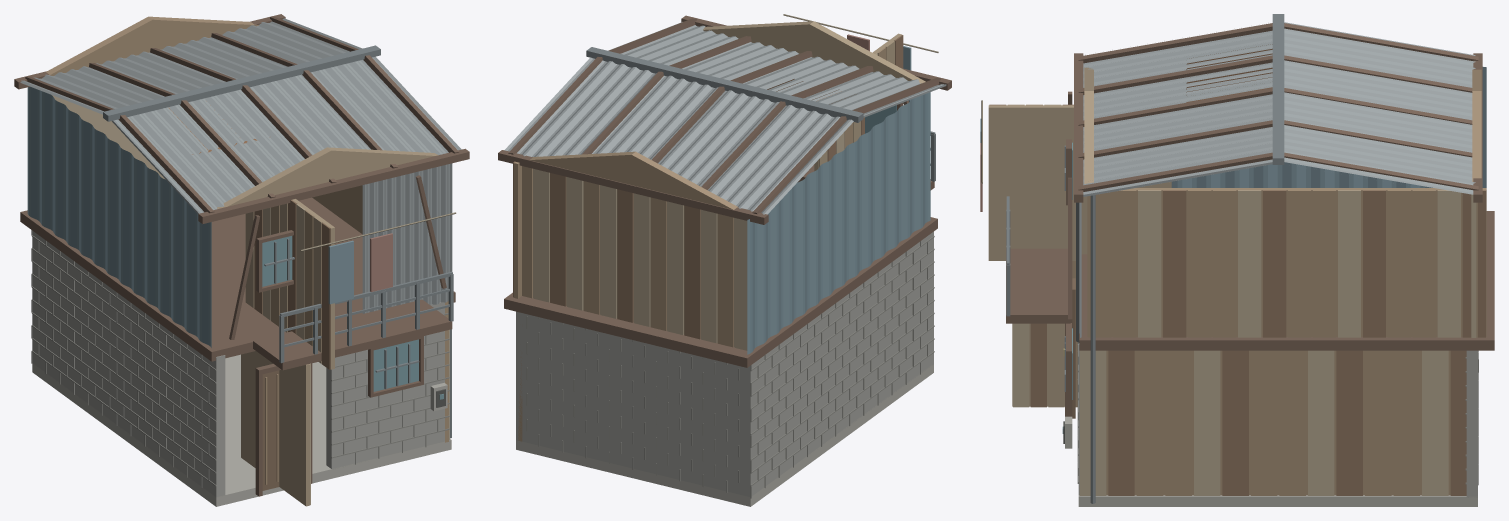
Rendered from SH09_Patchwork_Timber_Upper_Floor.glb.
3 renders of one model, left to right at view 1: azimuth 30°, elevation 25°; view 2: azimuth 150°, elevation 25°; view 3: azimuth 270°, elevation 25°, orthographic. The views are drawn at different scales.
Parts seen in each view (by area): view 1: 368_Upper_left_metal, 186_Left_lower_concrete, 444_Patchwork_roof_right_sheet, 443_Patchwork_roof_left_sheet, 355_Upper_floor, 002_Front_lower_left_concrete, 367_Upper_front_right, 001_Ground_floor, 062_Front_lower_right_backing, 428_Laundry_balcony_floor, 441_Front_gable, 442_Rear_gable (+34 smaller); view 2: 071_Rear_lower_concrete, 368_Upper_left_metal, 443_Patchwork_roof_left_sheet, 186_Left_lower_concrete, 444_Patchwork_roof_right_sheet, 355_Upper_floor, 441_Front_gable, 001_Ground_floor, 442_Rear_gable, 445_Patchwork_roof_ridge_cap, 446_Patchwork_roof_fascia_-1, 394_Upper_rear_plank_08 (+26 smaller); view 3: 443_Patchwork_roof_left_sheet, 444_Patchwork_roof_right_sheet, 356_Upper_front_left_backing, 355_Upper_floor, 369_Upper_right_backing, 340_Right_lower_backing, 428_Laundry_balcony_floor, 368_Upper_left_metal, 001_Ground_floor, 352_Right_lower_plank_12, 342_Right_lower_plank_02, 344_Right_lower_plank_04 (+51 smaller).
Part boxes in pixels (left/top/right/bottom): 368_Upper_left_metal: left=27, top=86, right=211, bottom=347; 186_Left_lower_concrete: left=32, top=231, right=225, bottom=497; 444_Patchwork_roof_right_sheet: left=112, top=56, right=461, bottom=214; 443_Patchwork_roof_left_sheet: left=20, top=18, right=362, bottom=114; 355_Upper_floor: left=20, top=197, right=455, bottom=361; 002_Front_lower_left_concrete: left=326, top=302, right=449, bottom=469; 367_Upper_front_right: left=362, top=163, right=452, bottom=313; 001_Ground_floor: left=32, top=354, right=451, bottom=506; 062_Front_lower_right_backing: left=241, top=351, right=309, bottom=506; 428_Laundry_balcony_floor: left=253, top=299, right=452, bottom=370; 441_Front_gable: left=217, top=147, right=438, bottom=208; 442_Rear_gable: left=46, top=16, right=258, bottom=75; 071_Rear_lower_concrete: left=516, top=311, right=755, bottom=497; 368_Upper_left_metal: left=747, top=92, right=930, bottom=354; 443_Patchwork_roof_left_sheet: left=504, top=57, right=853, bottom=214; 186_Left_lower_concrete: left=741, top=231, right=933, bottom=496; 444_Patchwork_roof_right_sheet: left=608, top=22, right=946, bottom=117; 355_Upper_floor: left=504, top=217, right=937, bottom=367; 441_Front_gable: left=703, top=21, right=925, bottom=83; 001_Ground_floor: left=516, top=364, right=933, bottom=506; 442_Rear_gable: left=530, top=151, right=737, bottom=209; 445_Patchwork_roof_ridge_cap: left=586, top=47, right=863, bottom=122; 446_Patchwork_roof_fascia_-1: left=498, top=150, right=768, bottom=224; 394_Upper_rear_plank_08: left=617, top=189, right=633, bottom=322; 443_Patchwork_roof_left_sheet: left=1284, top=22, right=1475, bottom=194; 444_Patchwork_roof_right_sheet: left=1083, top=30, right=1272, bottom=196; 356_Upper_front_left_backing: left=988, top=105, right=1171, bottom=260; 355_Upper_floor: left=1079, top=211, right=1494, bottom=350; 369_Upper_right_backing: left=1087, top=188, right=1486, bottom=336; 340_Right_lower_backing: left=1106, top=350, right=1450, bottom=495; 428_Laundry_balcony_floor: left=1006, top=248, right=1070, bottom=323; 368_Upper_left_metal: left=1171, top=67, right=1486, bottom=187; 001_Ground_floor: left=1078, top=495, right=1477, bottom=506; 352_Right_lower_plank_12: left=1136, top=350, right=1163, bottom=495; 342_Right_lower_plank_02: left=1422, top=350, right=1448, bottom=495; 344_Right_lower_plank_04: left=1365, top=350, right=1391, bottom=495.
Size of the model in its own units: 4.75 by 5.49 by 7.15.
